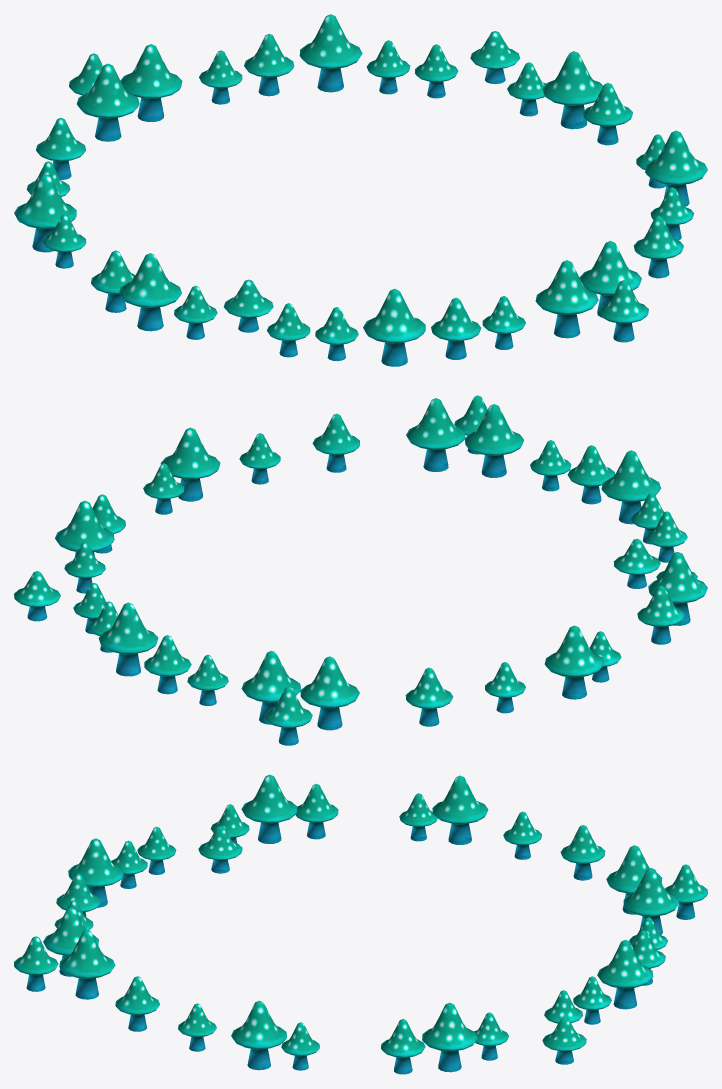
Rendered from Plant_001.fbx.
3 views of the same model, one above another, from view 1: azimuth 30°, elevation 25°; view 2: azimuth 150°, elevation 25°; view 3: azimuth 270°, elevation 25° (orthographic). The views are drawn at different scales.
Parts seen in each view (by area): view 1: Plant_001; view 2: Plant_001; view 3: Plant_001.
Boxes of the visible parts, x1=… form: Plant_001: x1=14, y1=14, x2=707, y2=366; Plant_001: x1=14, y1=395, x2=707, y2=745; Plant_001: x1=14, y1=774, x2=707, y2=1074.
Size of the model in its own units: 1171 by 139 by 1351.
